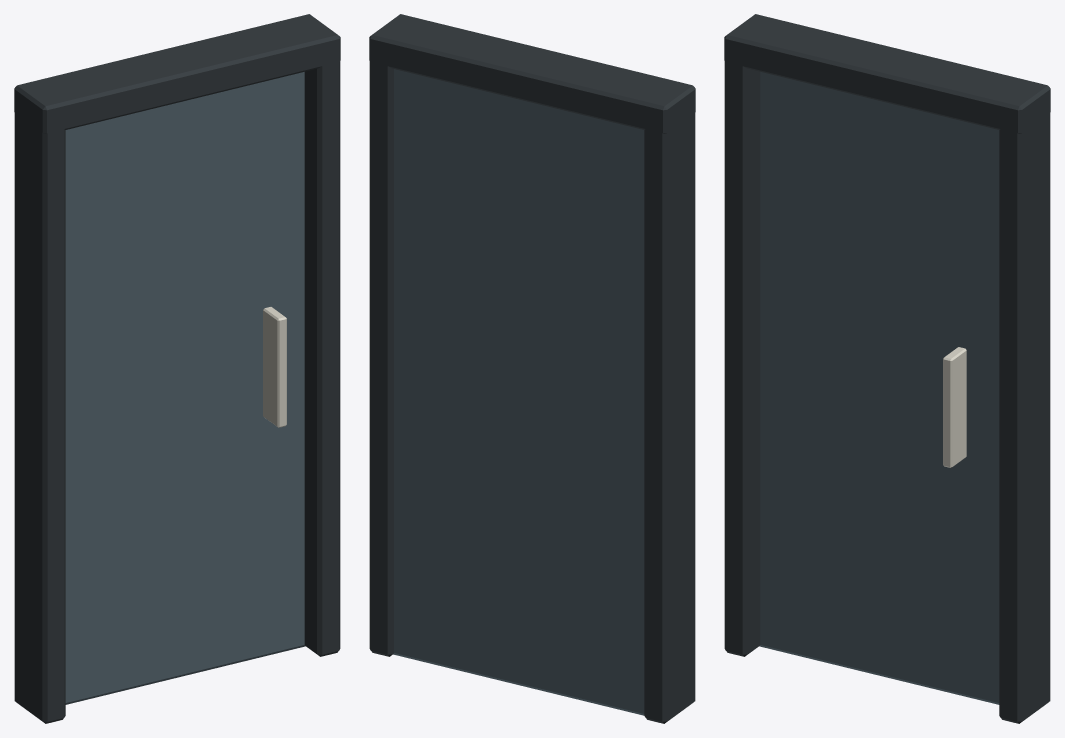
Rendered from BH_Door_Normal.glb.
3 views of the same model, side by side, from view 1: azimuth 30°, elevation 25°; view 2: azimuth 150°, elevation 25°; view 3: azimuth 330°, elevation 25° (orthographic).
Parts seen in each view (by area): view 1: BH_Door_Normal_RenderMesh; view 2: BH_Door_Normal_RenderMesh; view 3: BH_Door_Normal_RenderMesh.
Part boxes in pixels (x1=…): BH_Door_Normal_RenderMesh: x1=14, y1=14, x2=340, y2=723; BH_Door_Normal_RenderMesh: x1=369, y1=14, x2=695, y2=723; BH_Door_Normal_RenderMesh: x1=724, y1=14, x2=1050, y2=723.
Size of what is drawn, in the model's own units: 1.09 by 2.15 by 0.245.
